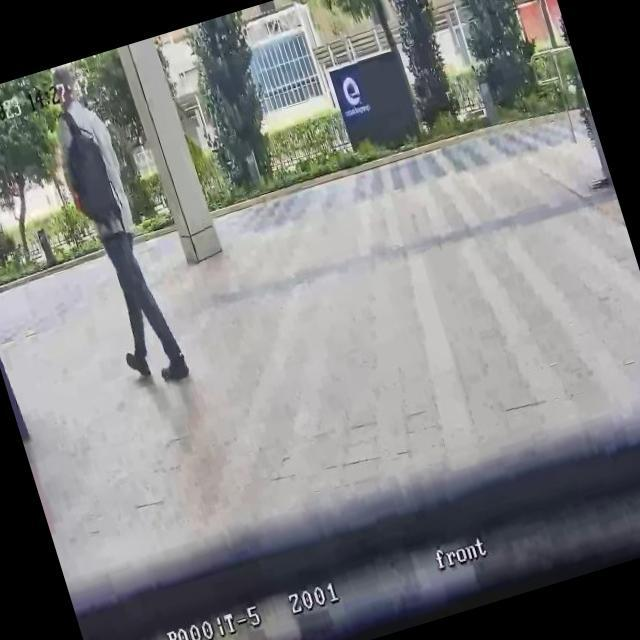person: (33, 54, 192, 397)
